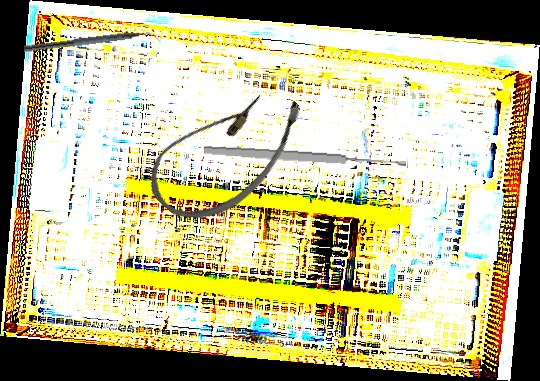Cannula: (134, 58, 319, 244)
Chopper: (23, 26, 162, 62)
Surgical Spoon: (203, 143, 407, 171)
